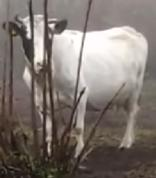cow: (2, 12, 148, 161)
